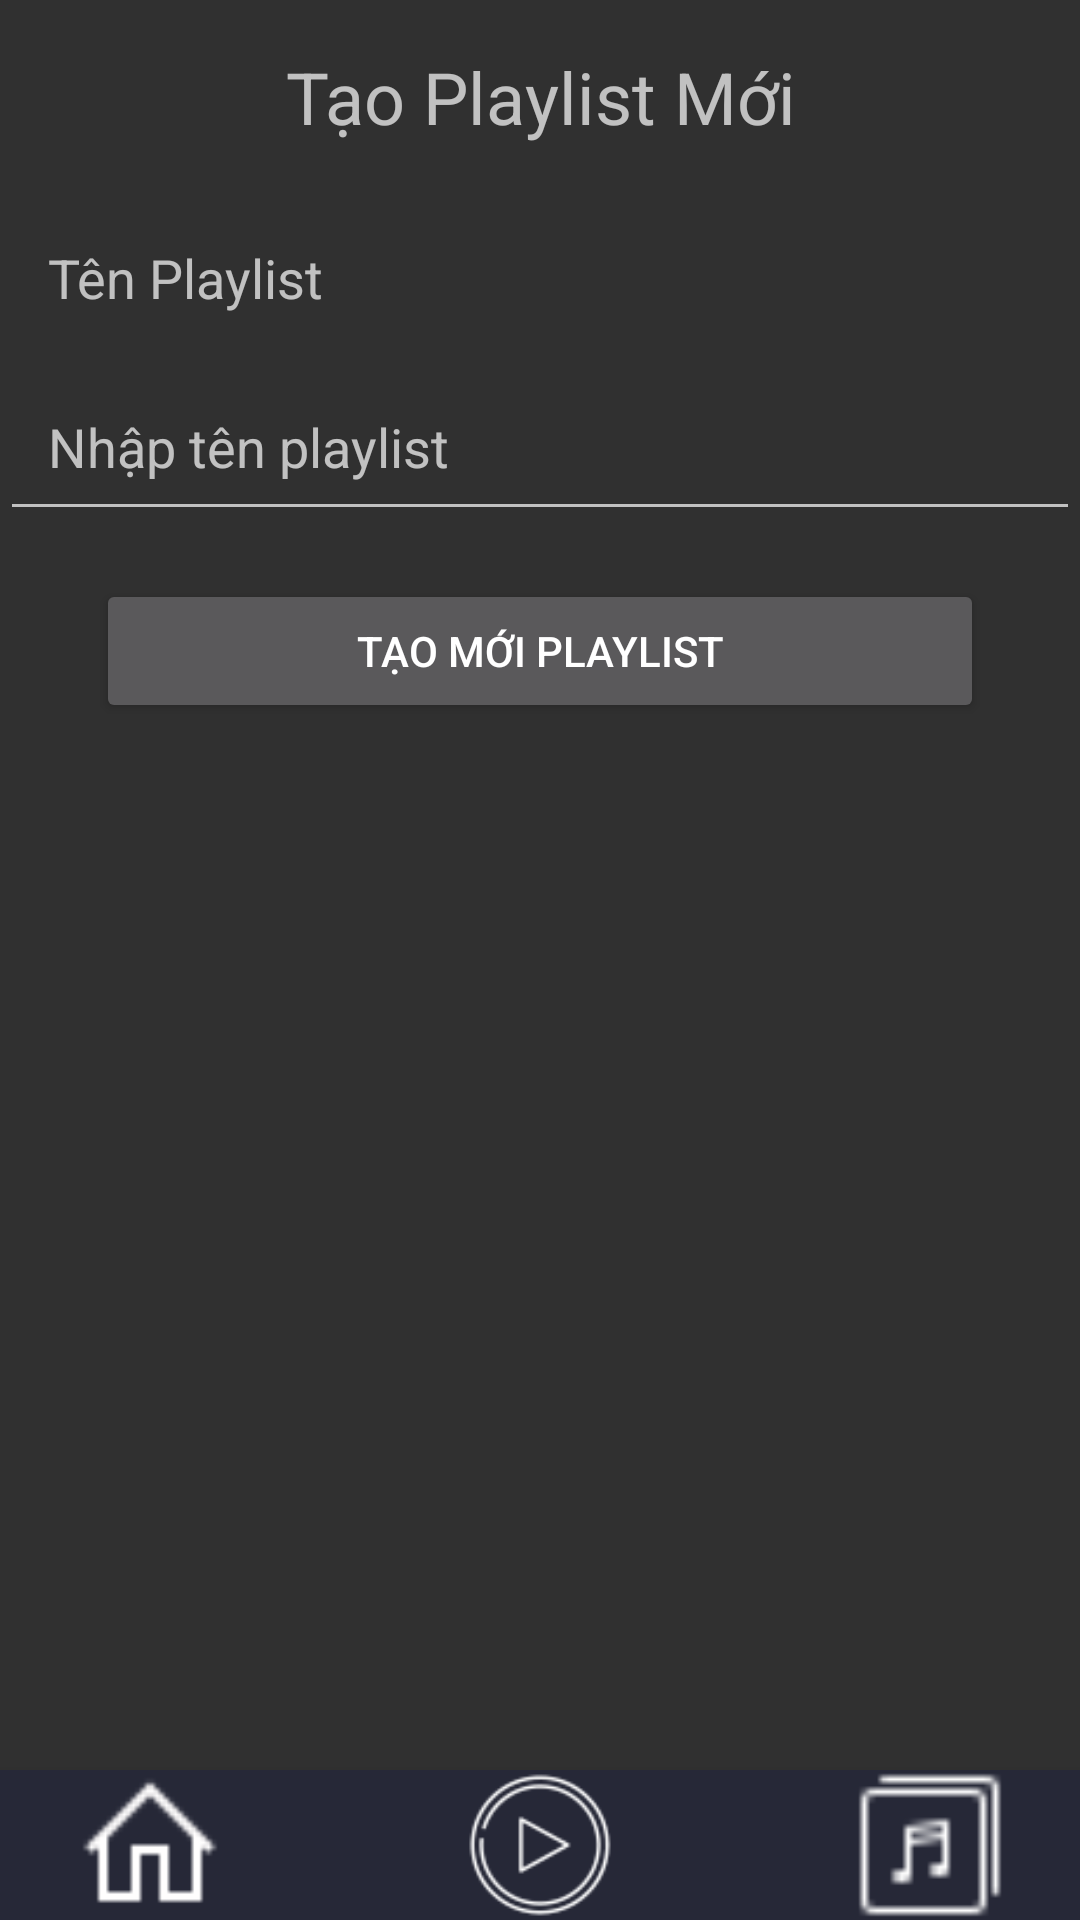

Icon click points for this 1080px×1920px phone screenshot, format point (x, y):
album: point (930, 1845)
home: point (150, 1842)
play: point (540, 1845)
